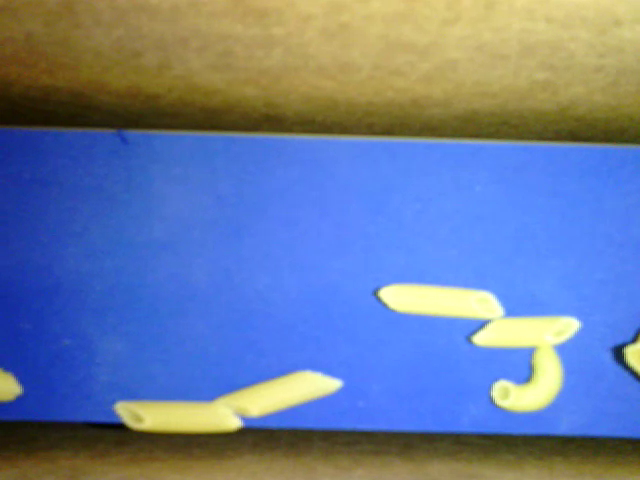elbow: (490, 347, 562, 414)
penne: (211, 366, 342, 419), (377, 282, 505, 319), (115, 401, 241, 433), (470, 316, 583, 348)
